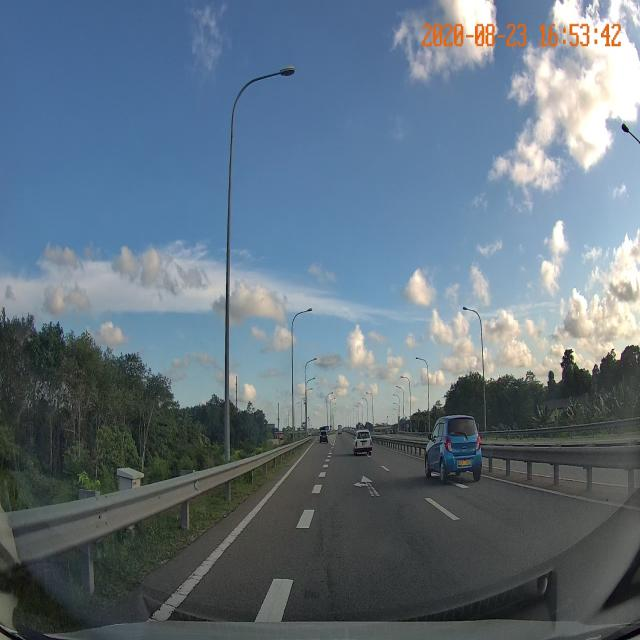forward_lft: (301, 464, 442, 514)
